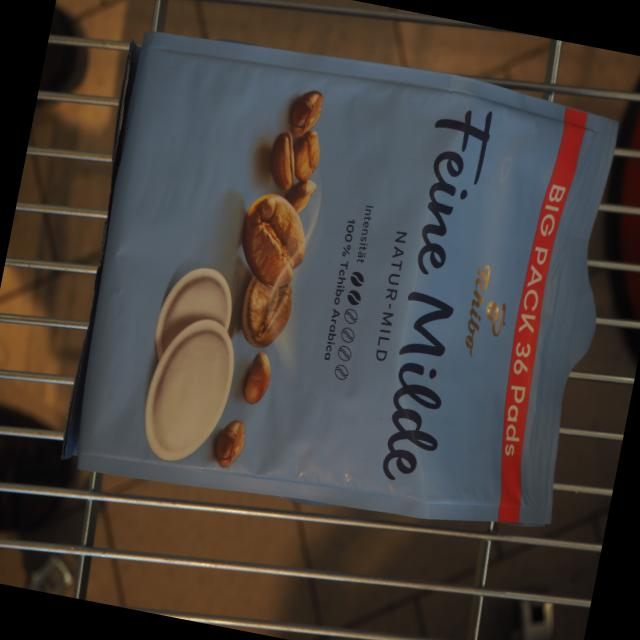FM 36 Pads: (41, 9, 640, 568)
